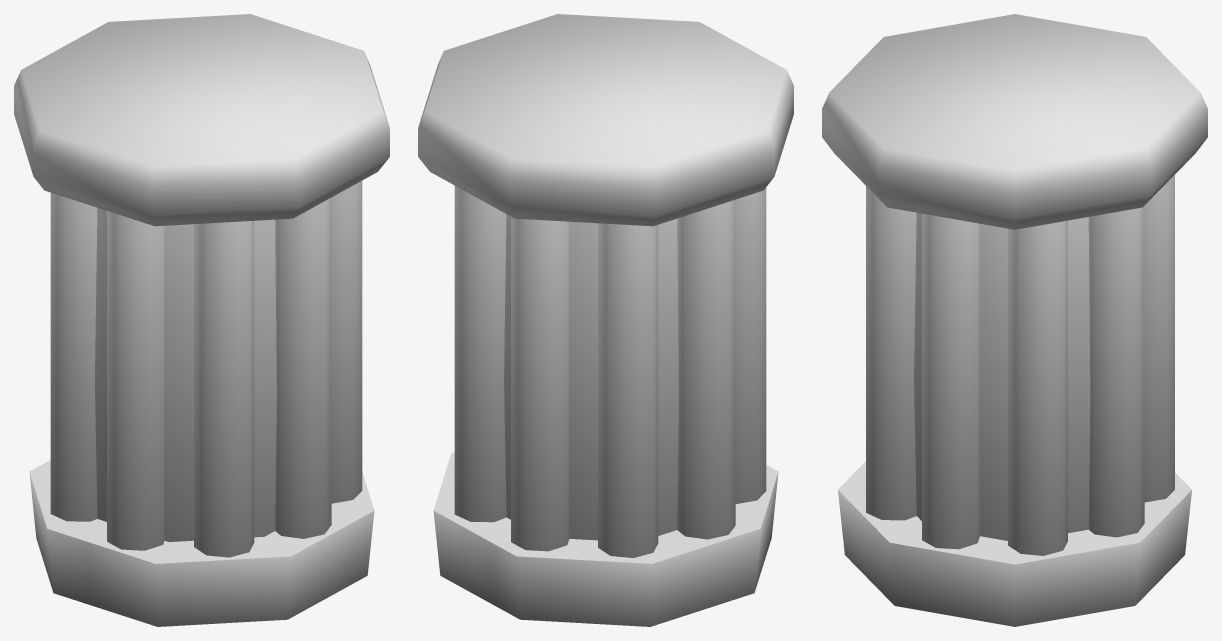
The model's file is stone_grip_056.glb.
3 renders of one model, left to right at view 1: azimuth 30°, elevation 25°; view 2: azimuth 150°, elevation 25°; view 3: azimuth 270°, elevation 25°, orthographic.
Parts seen in each view (by area): view 1: stone_grip.056; view 2: stone_grip.056; view 3: stone_grip.056.
Part boxes in pixels (<box>): stone_grip.056: <box>14,14,389,626</box>; stone_grip.056: <box>418,14,793,626</box>; stone_grip.056: <box>822,14,1207,626</box>.
Bounding box in the file's own units: 2.5 × 3.31 × 2.5.
Materials: 1 (1 with a texture image).
